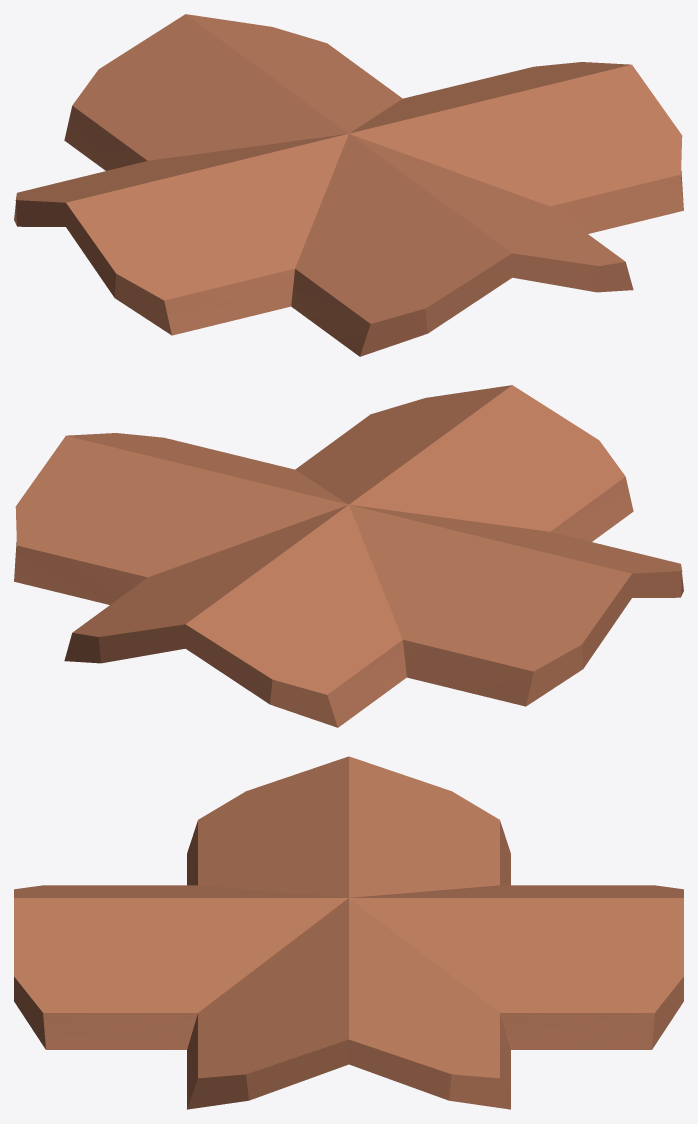
The model's file is empire-roof-top-cross-1m-empire.glb.
3 renders of one model, top to bottom at view 1: azimuth 30°, elevation 25°; view 2: azimuth 150°, elevation 25°; view 3: azimuth 270°, elevation 25°, orthographic. The views are drawn at different scales.
Parts seen in each view (by area): view 1: SM_Roof_Top_Cross_1m_Empire; view 2: SM_Roof_Top_Cross_1m_Empire; view 3: SM_Roof_Top_Cross_1m_Empire.
Boxes of the visible parts, left/top/right/bottom form: SM_Roof_Top_Cross_1m_Empire: left=14, top=14, right=683, bottom=356; SM_Roof_Top_Cross_1m_Empire: left=14, top=385, right=683, bottom=727; SM_Roof_Top_Cross_1m_Empire: left=14, top=756, right=683, bottom=1109.
Size of the model in its own units: 1 by 0.1378 by 1.
